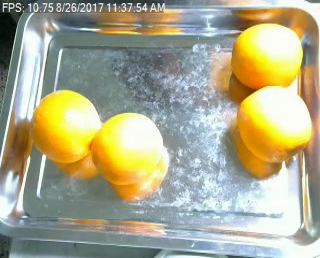Orange: (237, 85, 313, 163), (30, 89, 99, 163), (92, 111, 163, 182), (232, 22, 304, 89)
